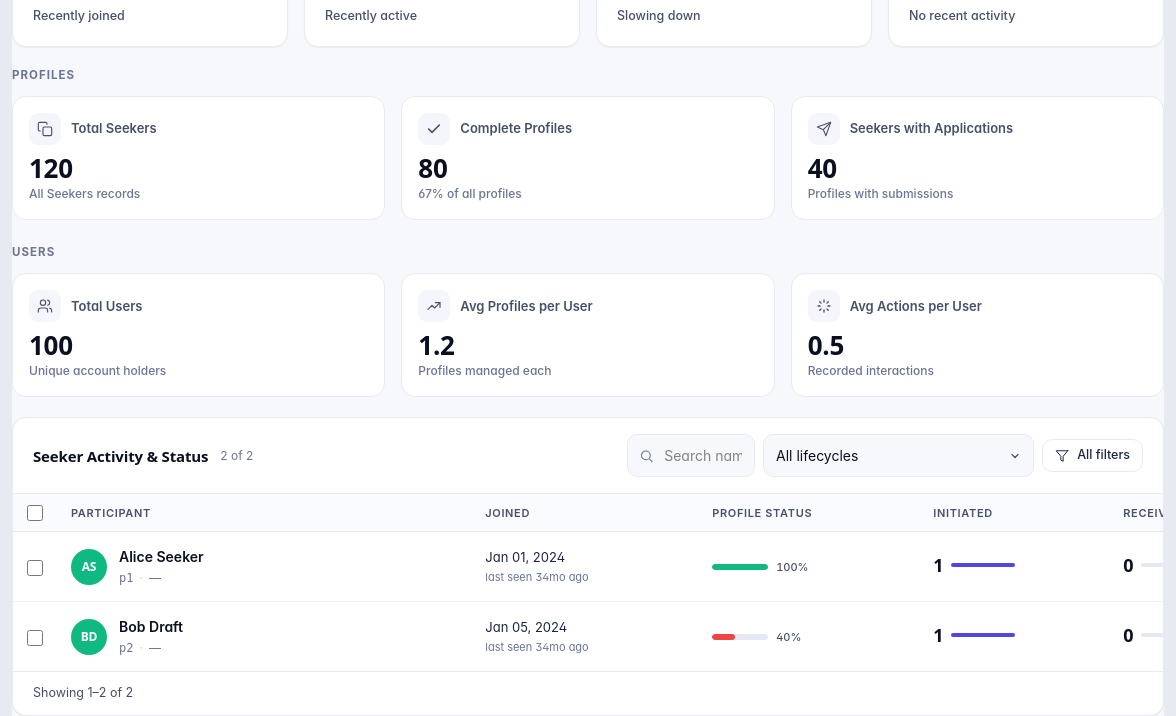
Test: <DashboardPageRoot /> › search › filters visible rows client-side and updates the "matching" summary line
(page scrolled)
Type "Alice" into the field named "Search participants". click: [691, 456]
box: [627, 434, 755, 477]
(page scrolled)
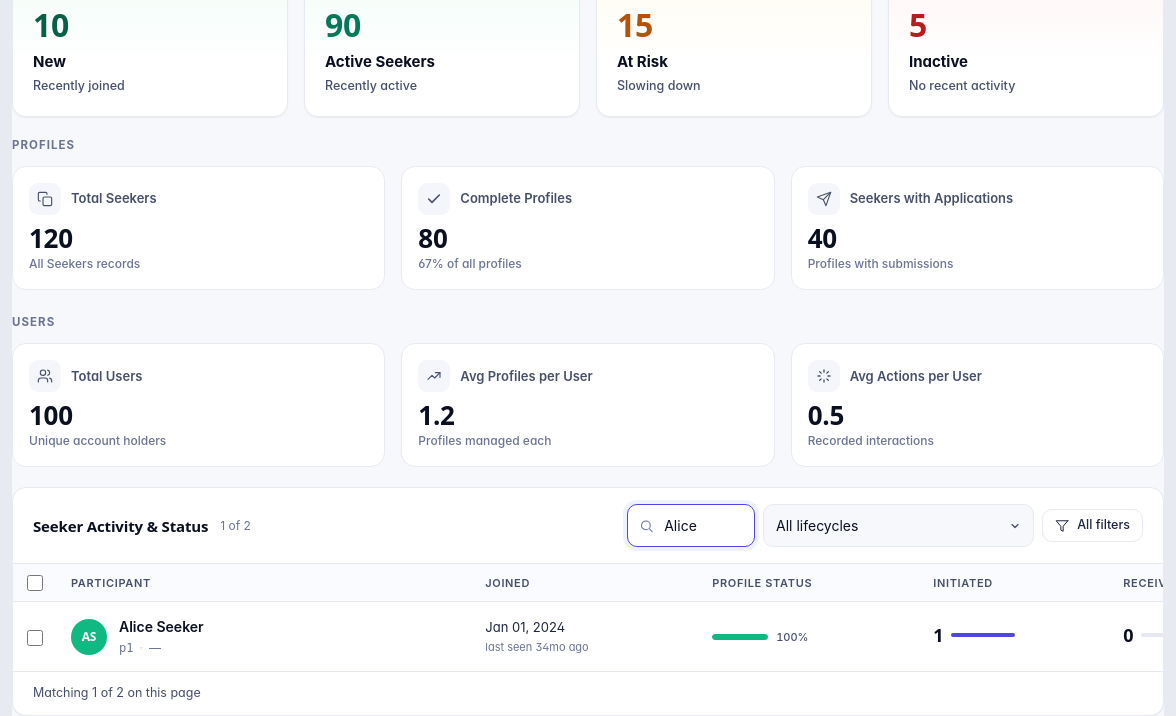
Expected: the text "Alice Seeker" is shown, [119, 616, 204, 637]
Expected: the text "Bob Draft" is gone
Expected: the text "Matching 1 of 2 on this page" is shown, [33, 684, 201, 703]
